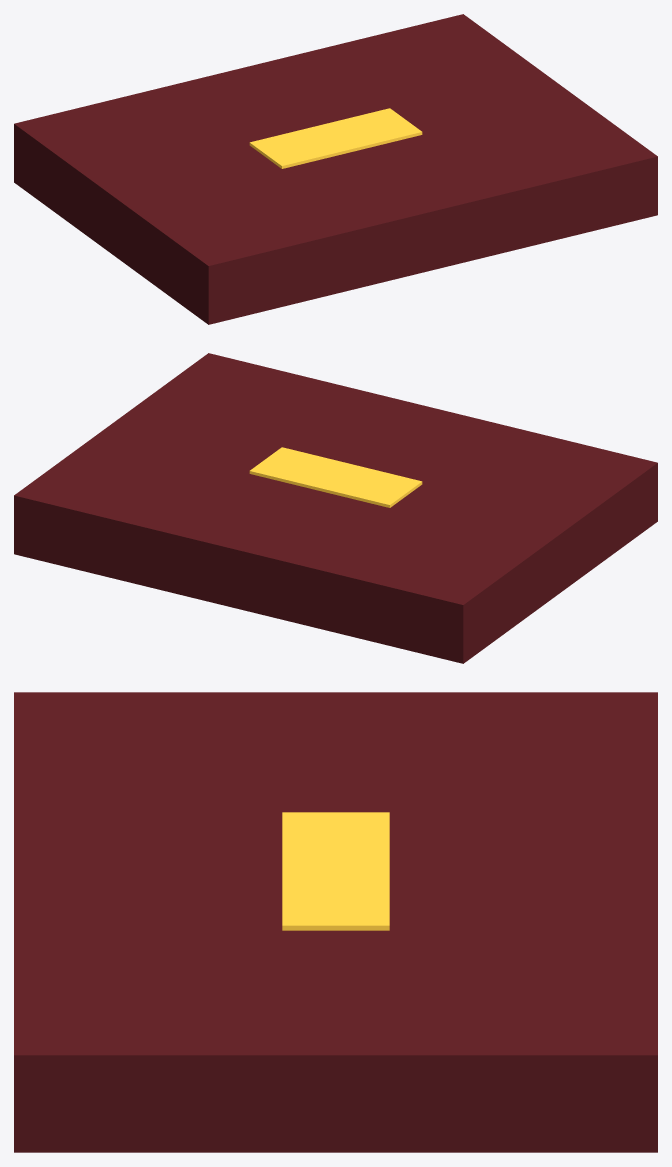
Rendered from fake_guest_book.glb.
3 views of the same model, one above another, from view 1: azimuth 30°, elevation 25°; view 2: azimuth 150°, elevation 25°; view 3: azimuth 270°, elevation 25° (orthographic). The views are drawn at different scales.
Visible parts, largest first — view 1: book_guest_book, book_gold; view 2: book_guest_book, book_gold; view 3: book_guest_book, book_gold.
Part boxes in pixels (x1,y1,x2,y2): book_guest_book: (14, 14, 657, 324); book_gold: (249, 108, 422, 168); book_guest_book: (14, 353, 657, 663); book_gold: (249, 447, 422, 507); book_guest_book: (14, 692, 657, 1152); book_gold: (282, 812, 389, 930).
Bounding box in the file's own units: 0.32 × 0.042 × 0.24.
